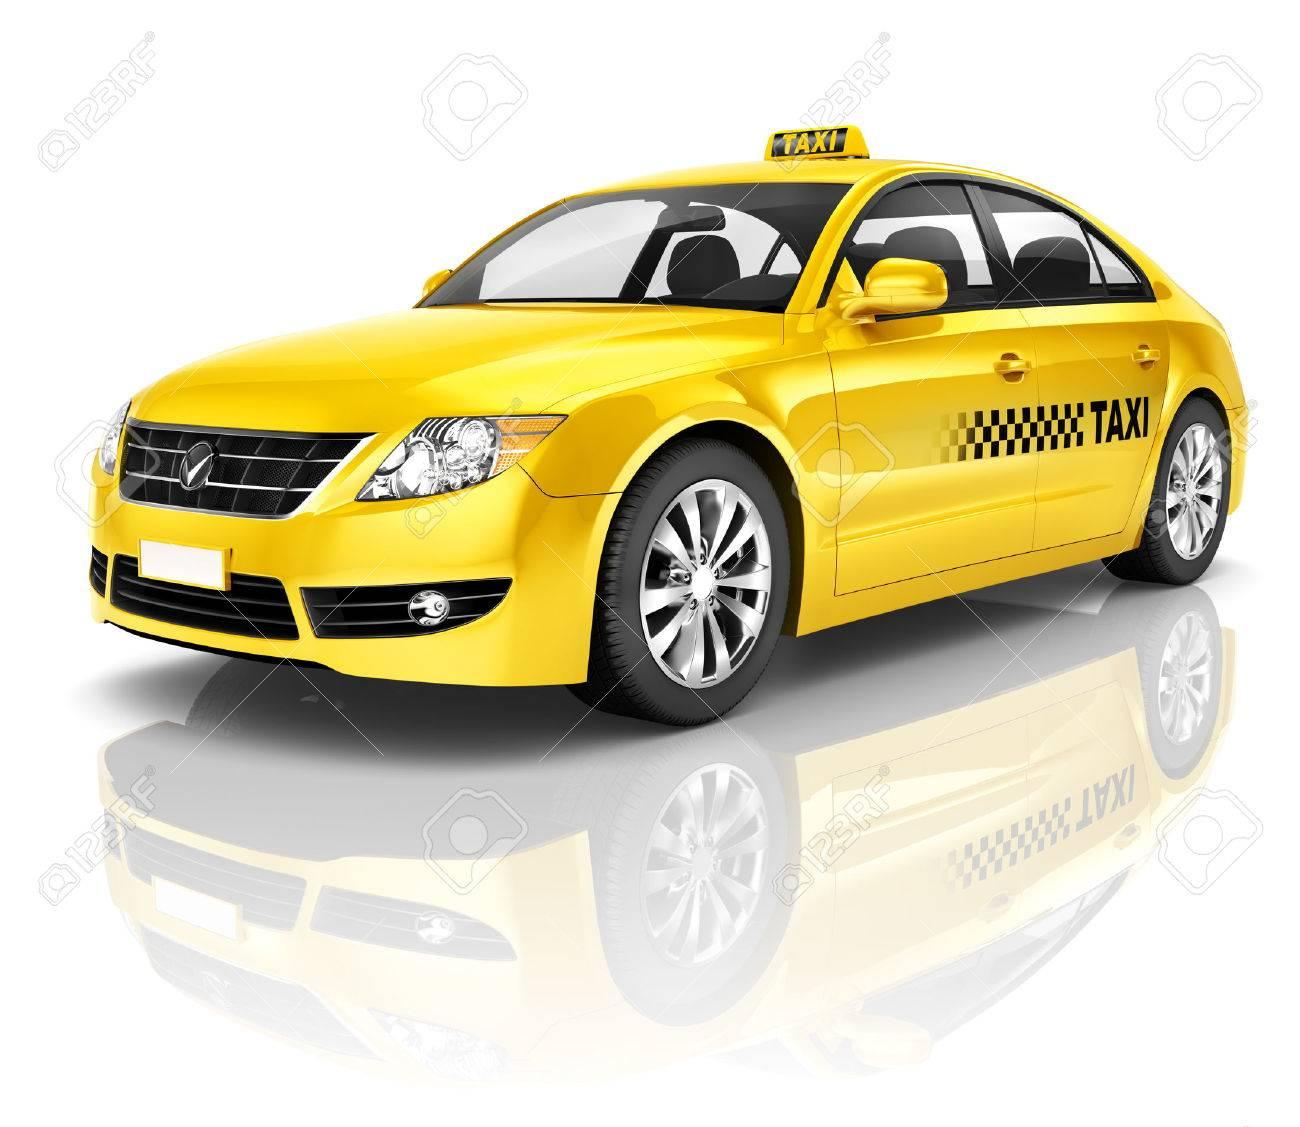taxi: (69, 78, 1229, 717)
